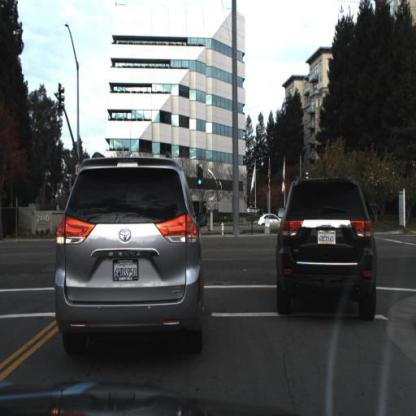car: (60, 152, 216, 357), (275, 173, 380, 323), (259, 210, 284, 233)
trafficLight-Green: (193, 153, 209, 202), (196, 163, 205, 190)
